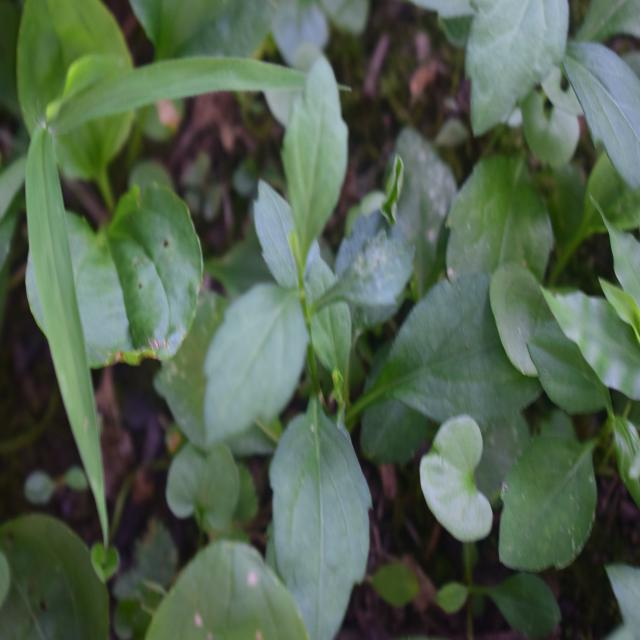Indian aster: (205, 76, 428, 569)
